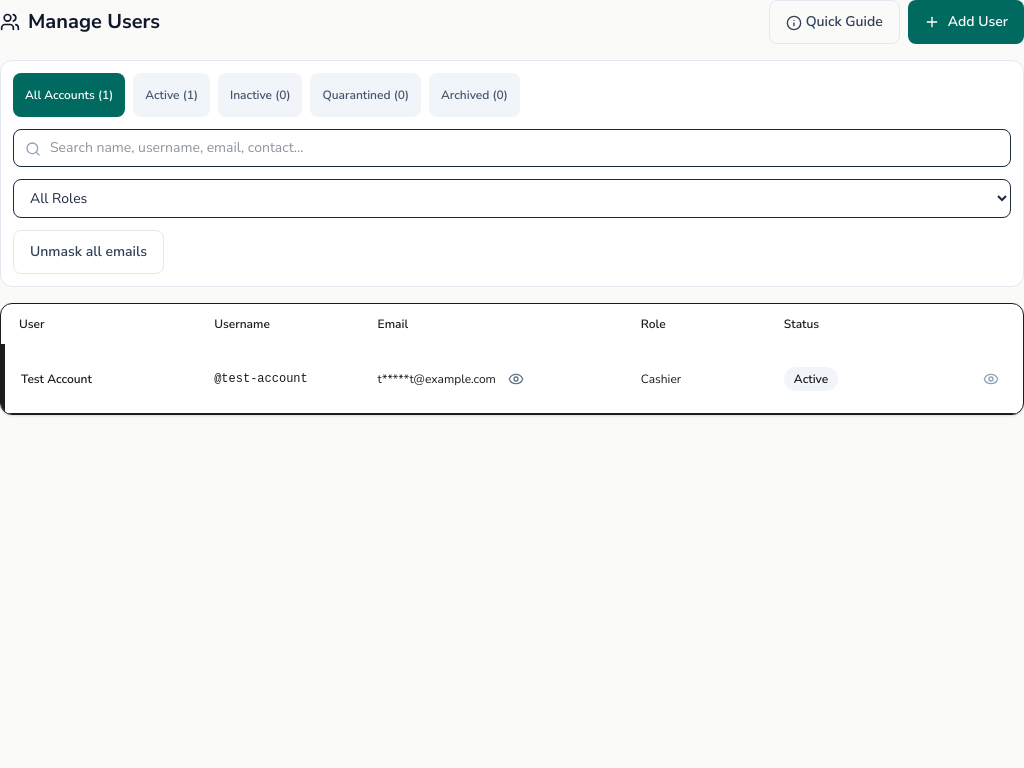
Test: editing user roles from account details › opens the Cashier editor and preserves its role when saving account details
The image size is (1024, 768).
Click the text "Test Account": (513, 378) 3,344 -> 1023,412
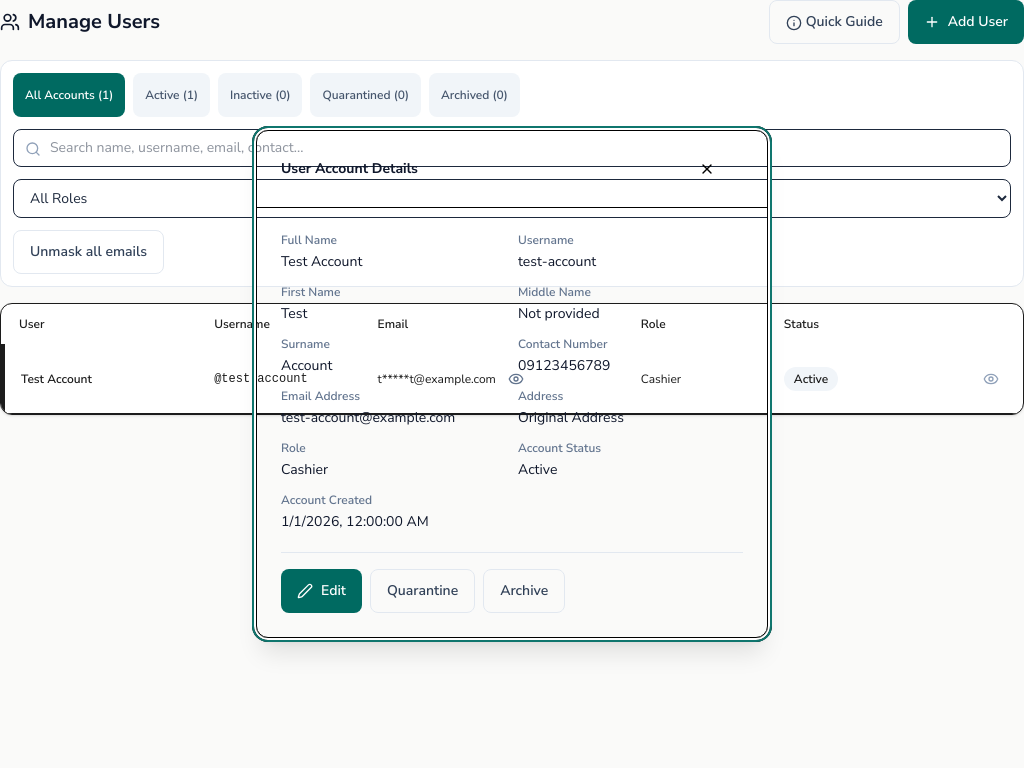
Click the button "Edit": (322, 591) 281,569 -> 362,613
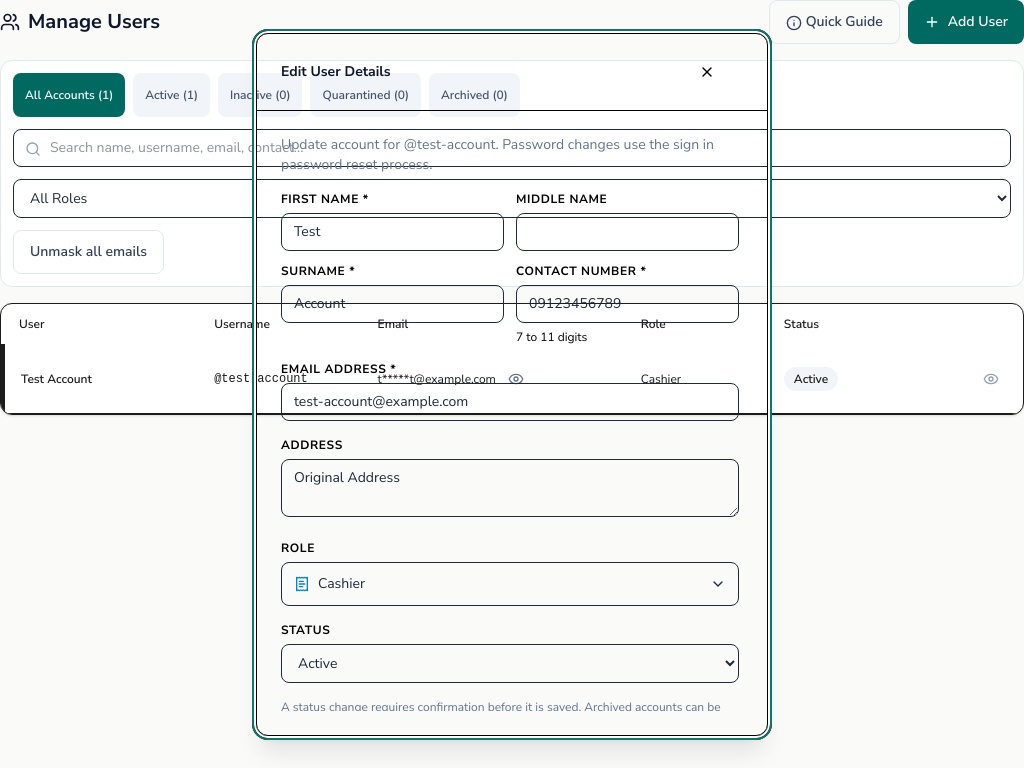
Expected: the button "Cashier" is shown, 281,562 -> 739,606
Expected: the heading "Edit User Details" is shown, 281,62 -> 390,82
Expected: the heading "User Account Details" is gone
Replace the text in the field labelled "First Name *" with "Updated": (392, 232) 281,212 -> 504,250
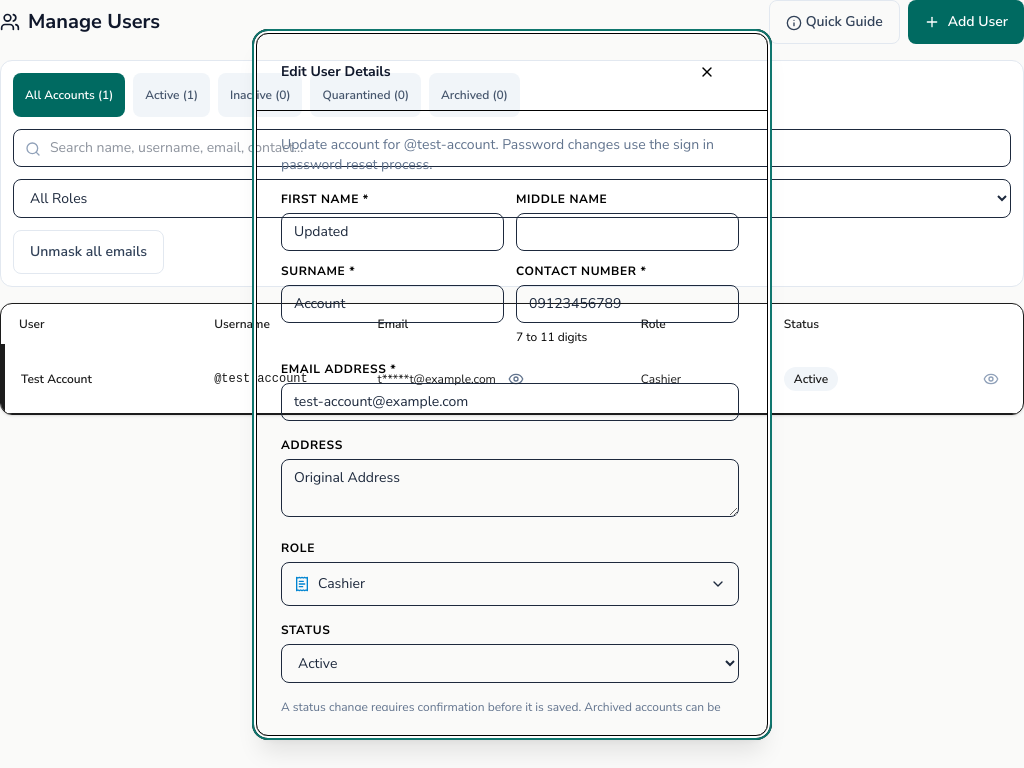
Replace the text in the field showing "test-account@example.com" with "updated@example.com": (510, 402) 281,382 -> 739,420
(page scrolled)
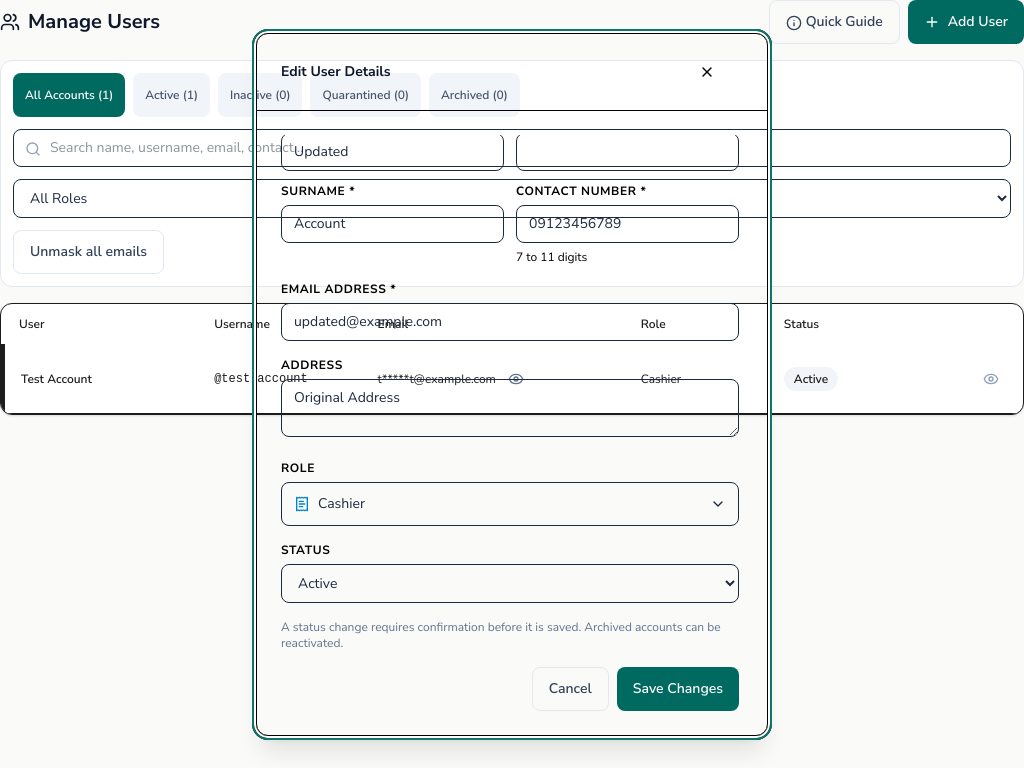
Click the button "Save Changes": (678, 688) 617,666 -> 739,710
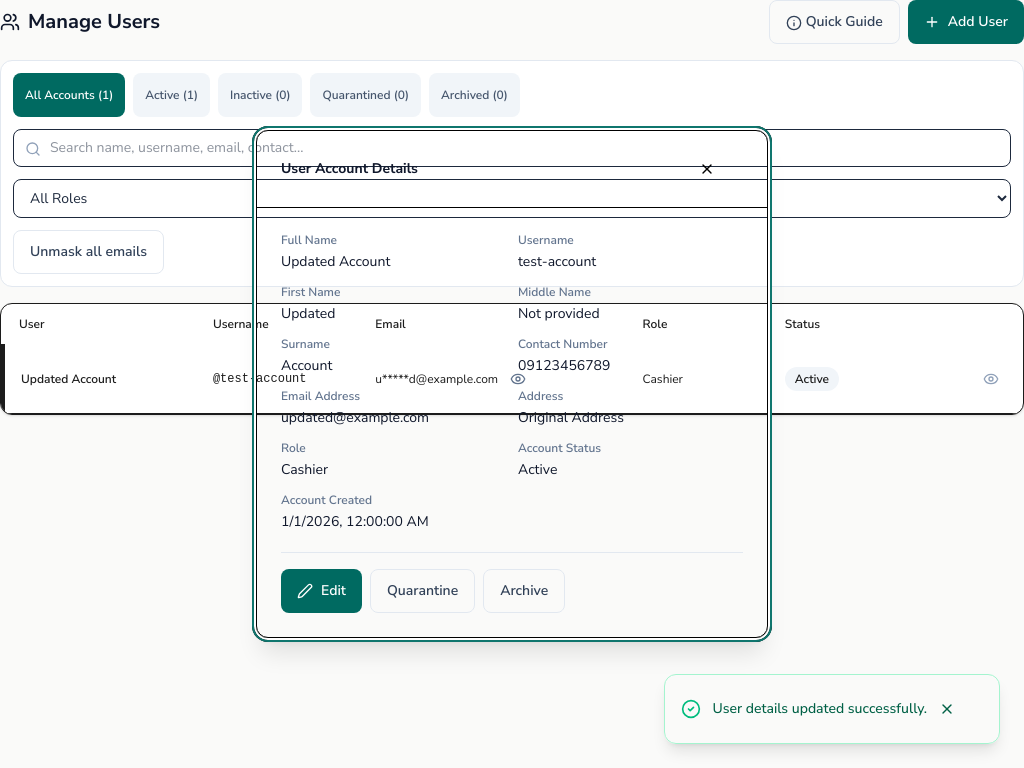
Expected: the heading "Edit User Details" is gone
